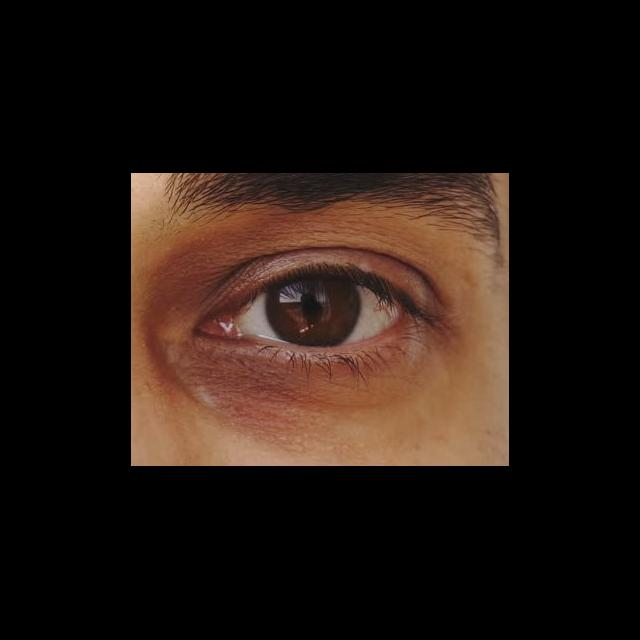eye: (234, 268, 408, 349)
iris: (267, 275, 361, 346)
